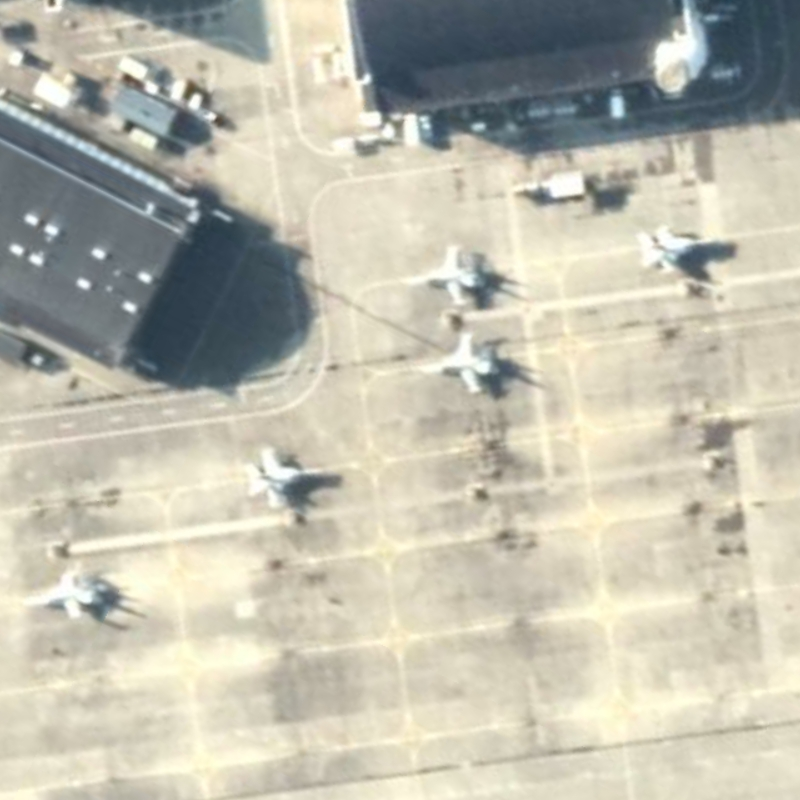A16: (236, 437, 352, 520), (385, 235, 499, 316), (398, 329, 513, 400), (19, 553, 129, 626), (636, 214, 738, 283)
